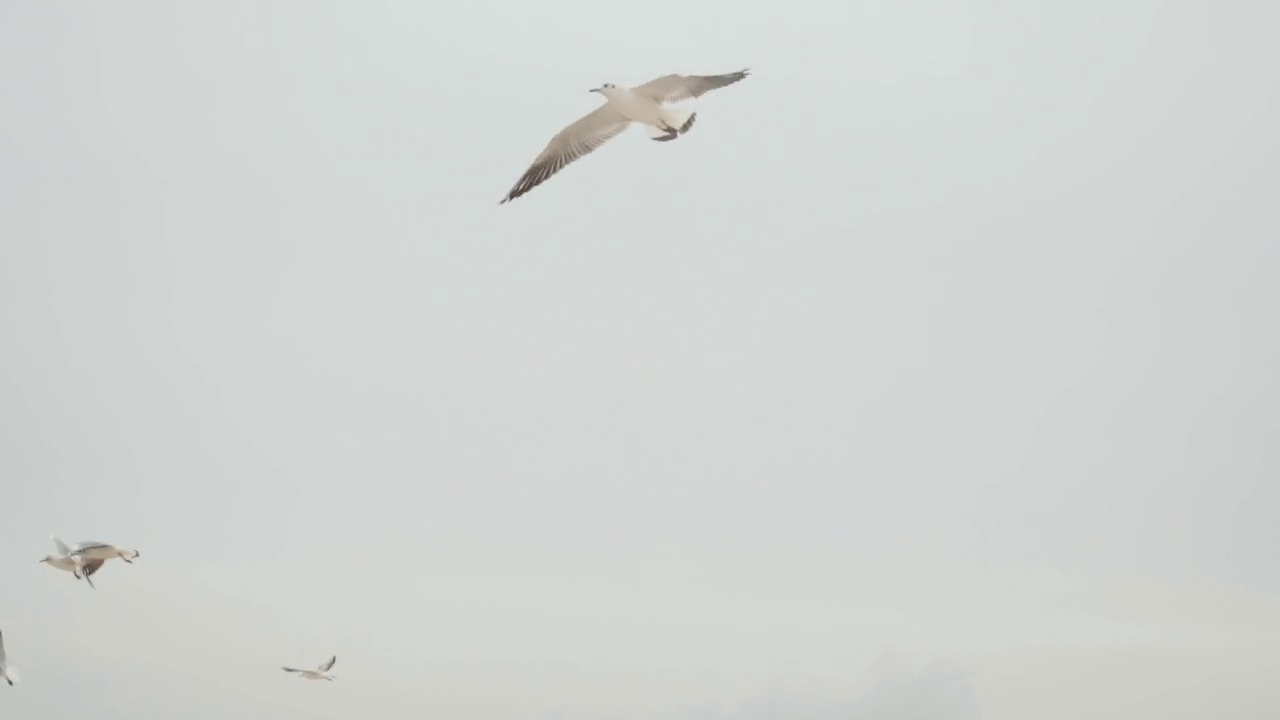bird: (498, 64, 747, 203), (38, 537, 95, 581), (72, 535, 138, 564), (280, 655, 336, 683)
